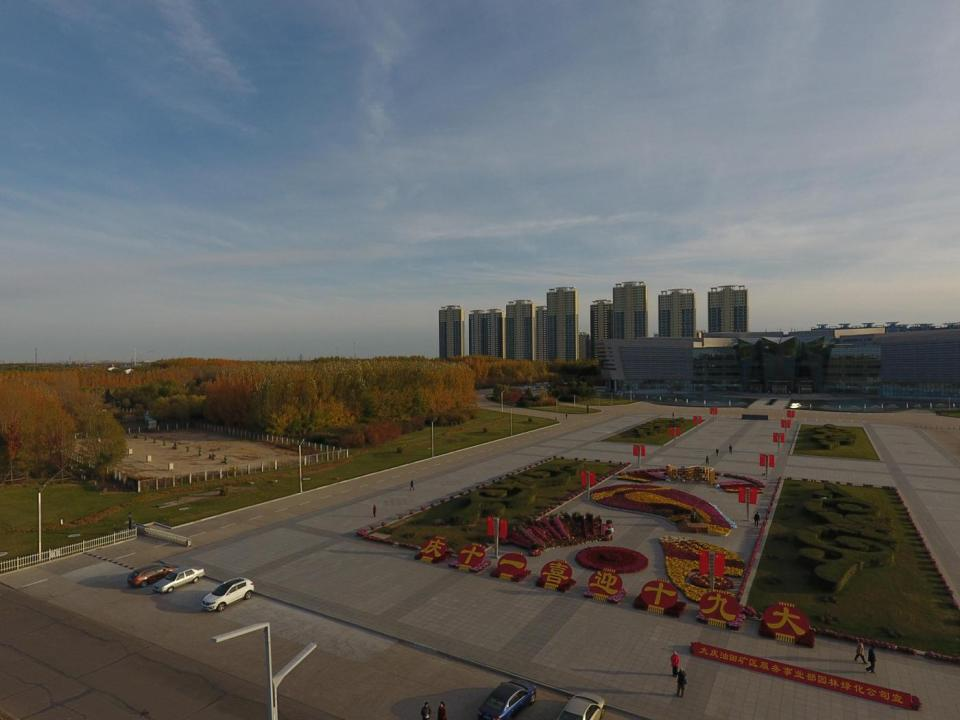car: (475, 678, 536, 720), (200, 576, 254, 612), (127, 561, 182, 588), (559, 690, 607, 720), (152, 566, 205, 593), (372, 503, 376, 518)
